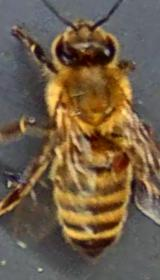varroa_mite: (102, 144, 132, 174)
